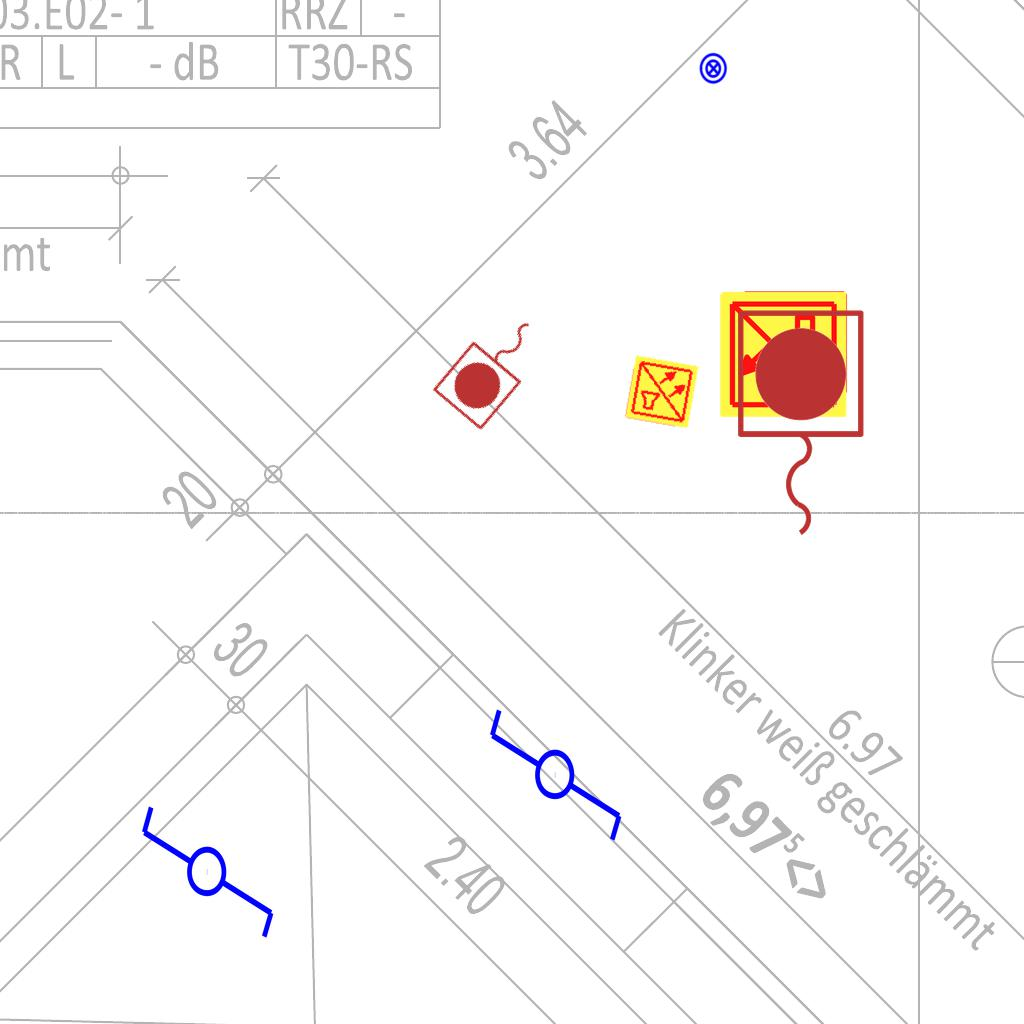OKW_Multisensormelder_(Kombination_optischer_Rauch-Kahlenmonoxid_Waerme-Melder): (717, 288, 849, 420), (623, 353, 701, 431)
Taster_beleuchtet: (697, 52, 730, 85)
Wechselschalter: (485, 688, 629, 845), (137, 785, 281, 942)
Zugtaster: (727, 302, 871, 546), (427, 297, 561, 437)
